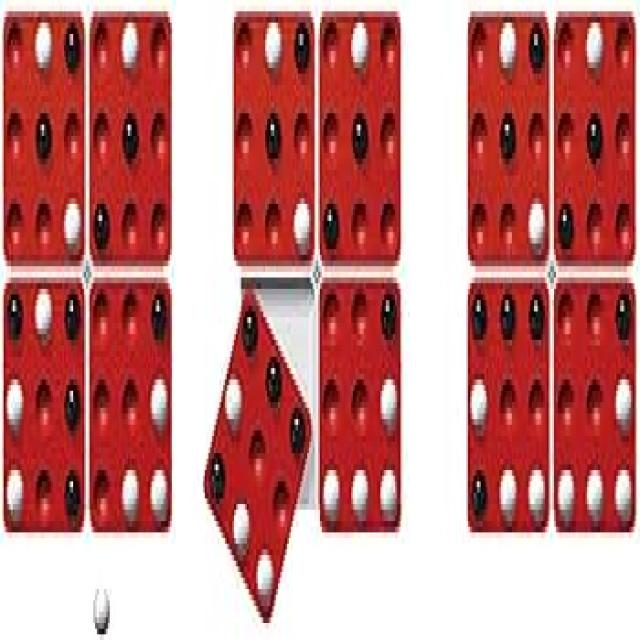pentago: (204, 8, 403, 626), (468, 10, 638, 532), (4, 14, 172, 528)
